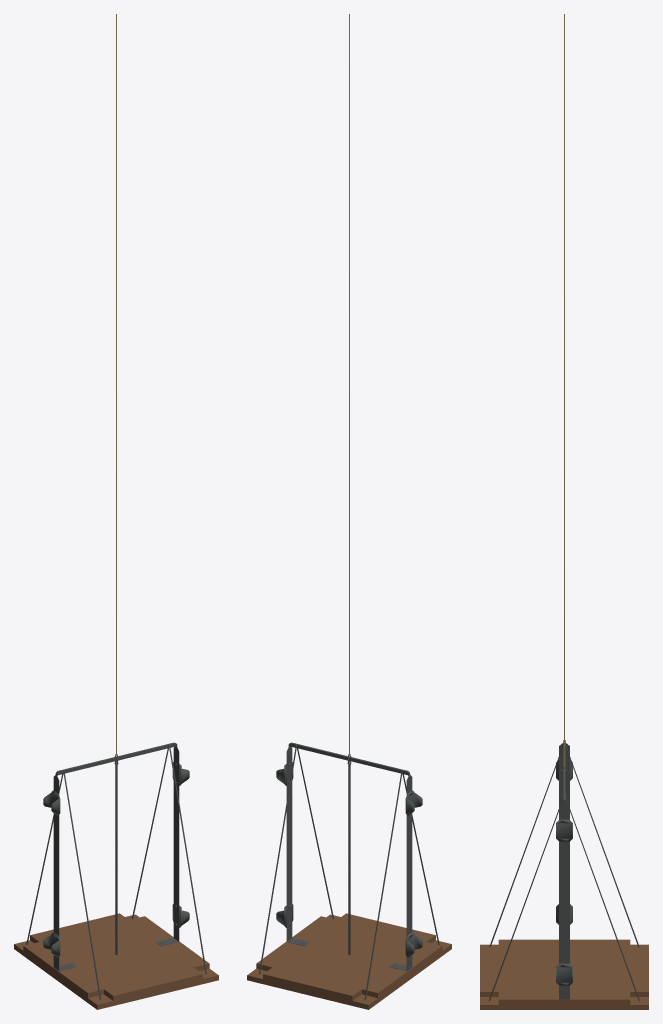
File: Lift.fbx
3 views of the same model, side by side, from view 1: azimuth 30°, elevation 25°; view 2: azimuth 150°, elevation 25°; view 3: azimuth 270°, elevation 25° (orthographic).
Parts seen in each view (by area): view 1: Platform Suspension; view 2: Platform Suspension; view 3: Platform Suspension.
Part boxes in pixels (x1,y1,x2,y2): Platform Suspension: (14, 14, 218, 1009); Platform Suspension: (247, 14, 451, 1009); Platform Suspension: (480, 14, 648, 1009).
Bounding box in the file's own units: 215 × 1426 × 225.
